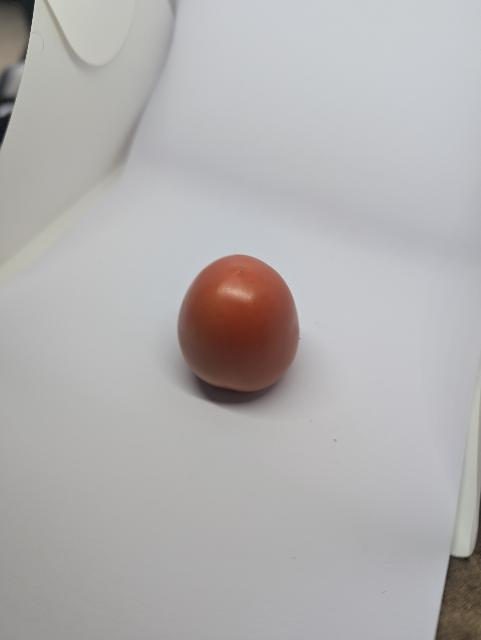red: (169, 243, 329, 424)
